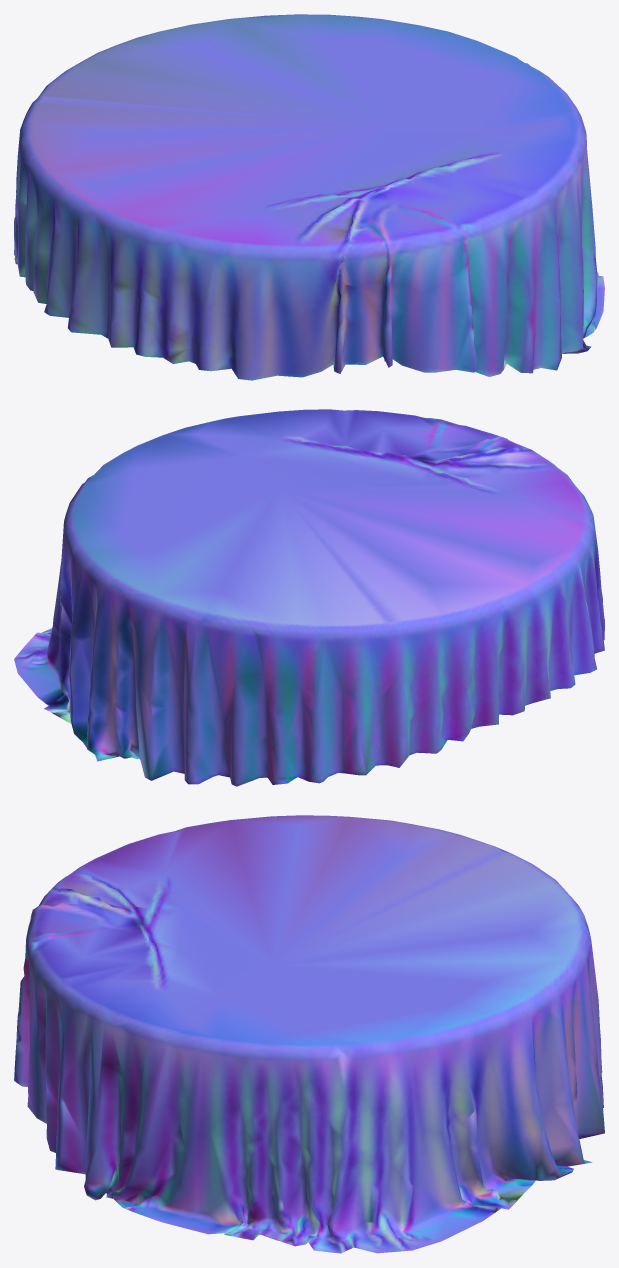
Rendered from RoundTableCover.fbx.
3 views of the same model, one above another, from view 1: azimuth 30°, elevation 25°; view 2: azimuth 150°, elevation 25°; view 3: azimuth 270°, elevation 25° (orthographic). The views are drawn at different scales.
Parts seen in each view (by area): view 1: SM_RoundTableCover; view 2: SM_RoundTableCover; view 3: SM_RoundTableCover.
Boxes of the visible parts, bbox=[...] form: SM_RoundTableCover: bbox=[14, 14, 604, 380]; SM_RoundTableCover: bbox=[14, 409, 604, 786]; SM_RoundTableCover: bbox=[14, 815, 604, 1253].
Size of the model in its own units: 269 by 88.32 by 252.
